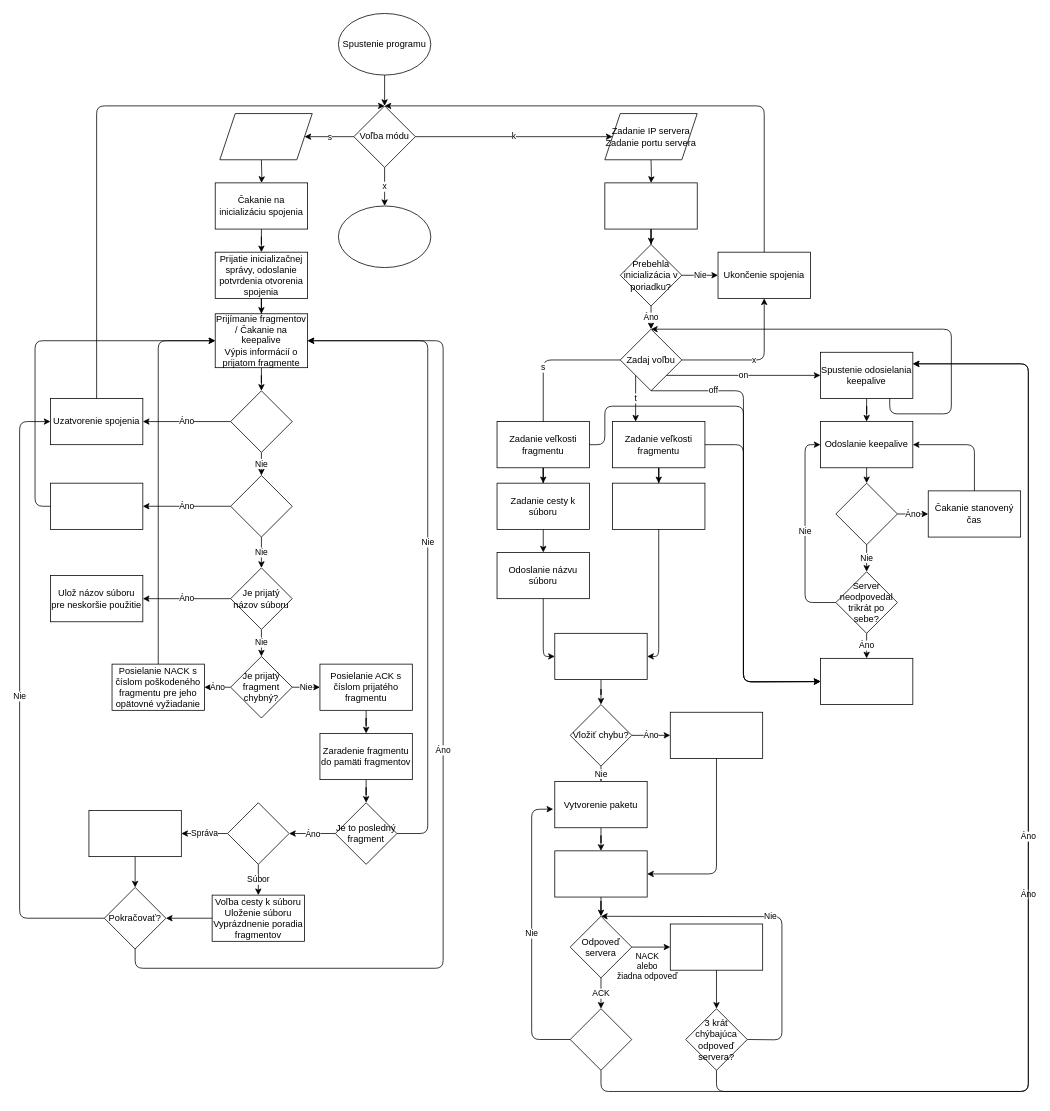
This 1050x1111 diagram has some shape labels left out. The centre of each missing label's shape, as x and y in pixels:
"Inicializácia spojenia so serverom" belongs at point 650,205.
"Je paket posledný?" belongs at point 600,1039.
"Je prijatý keepalive?" belongs at point 261,506.
"Odosielanie potvrdenia keepalive" belongs at point 96,505.
"Odoslanie paketu" belongs at point 600,873.
"Opätovné odoslanie (opraveného) fragmentu" belongs at point 716,946.
"Prišla odpoveď servera včas?" belongs at point 866,513.
"Rozfragmentovanie dát" belongs at point 600,656.
"Správa / Súbor" belongs at point 258,833.
"Ukončenie posielania keepalive" belongs at point 866,681.
"Ukončenie programu" belongs at point 384,236.
"Vypršal keepalive?" belongs at point 261,421.
"Vytvorenie prvého paketu s chybou" belongs at point 716,734.
"Výpis správy, vyprázdnenie poradia fragmentov" belongs at point 134,833.
"Zadanie portu" belongs at point 265,136.
"Zadanie textovej správy na odoslanie" belongs at point 658,505.
